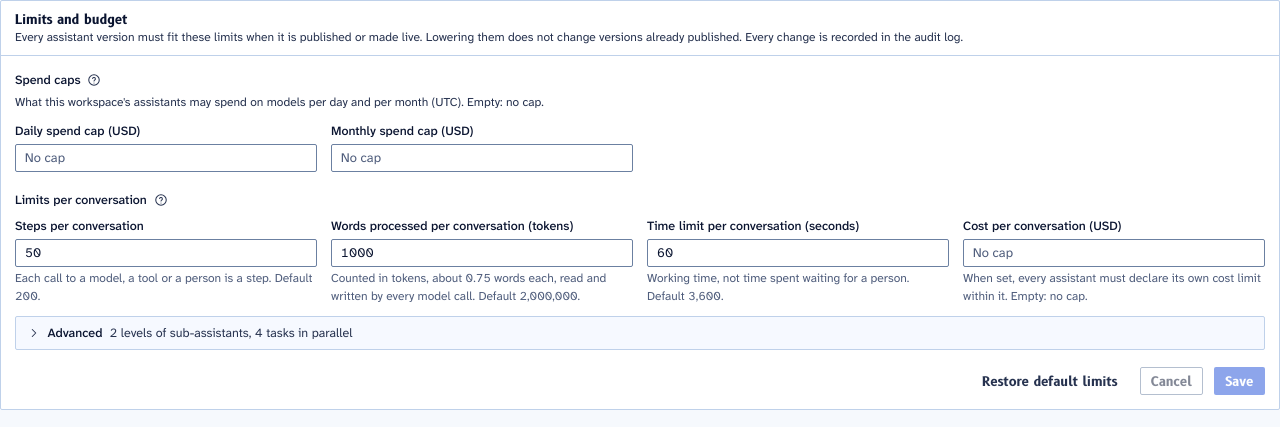
Test: NodeLimitsSection › restores the default caps with null
The width and height of the screenshot is (1280, 427).
Expected: the field labelled "Steps per conversation" holds "50", left=15, top=239, right=317, bottom=267
Click the button "Restore default limits".
click(1050, 381)  # box left=970, top=367, right=1129, bottom=395
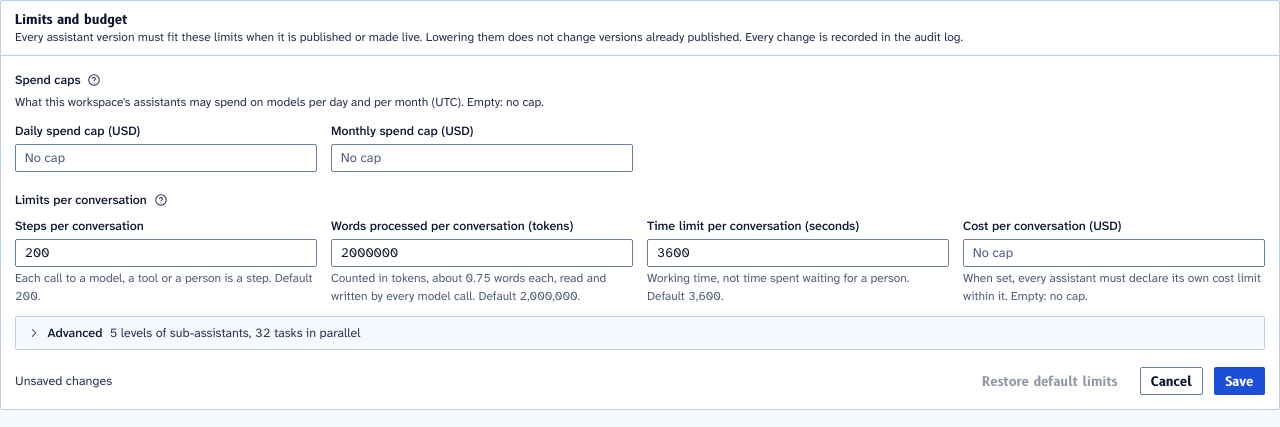
Result: the field labelled "Steps per conversation" holds "200" at left=15, top=239, right=317, bottom=267
Click the button "Save".
click(1239, 381)  # box left=1214, top=367, right=1265, bottom=395
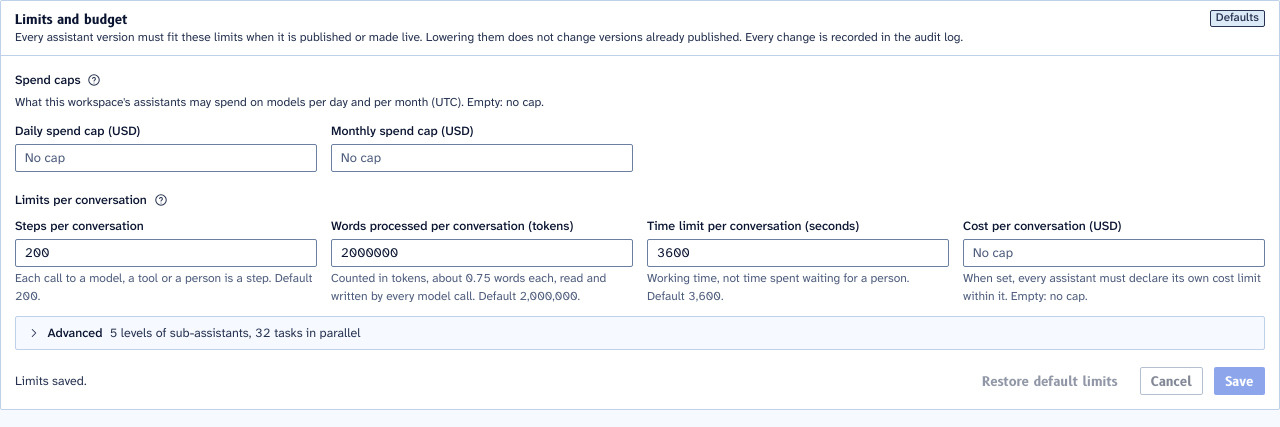
Result: the message reads "Limits saved." at left=15, top=373, right=86, bottom=389
Result: the text "Defaults" is shown at left=1210, top=10, right=1265, bottom=27
